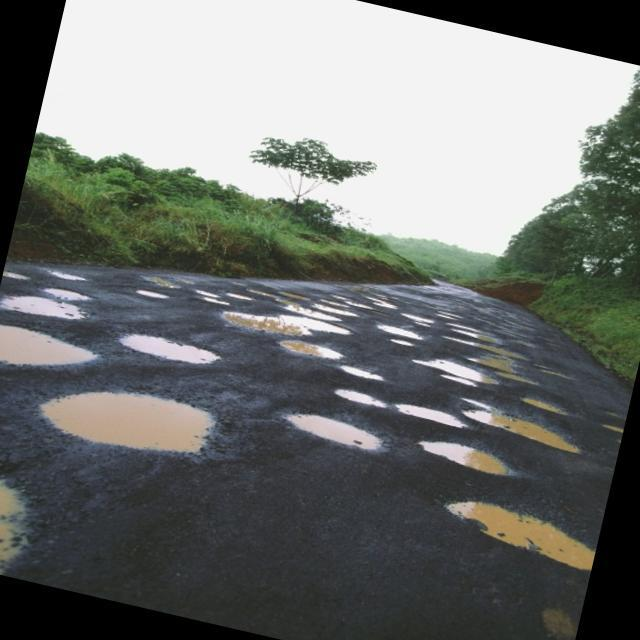Pothole: (35, 366, 224, 472), (432, 488, 602, 580), (0, 449, 59, 581), (459, 398, 588, 457), (0, 313, 100, 385), (274, 400, 395, 458), (114, 327, 234, 381), (416, 432, 526, 484), (0, 284, 94, 329), (418, 352, 500, 389), (282, 332, 348, 372), (222, 306, 302, 338), (321, 378, 388, 416), (278, 309, 356, 340), (476, 348, 542, 384), (400, 402, 467, 432), (136, 281, 176, 311), (520, 393, 568, 417), (344, 361, 389, 383), (381, 322, 428, 343), (191, 282, 222, 300), (608, 419, 624, 438), (229, 289, 251, 302)
